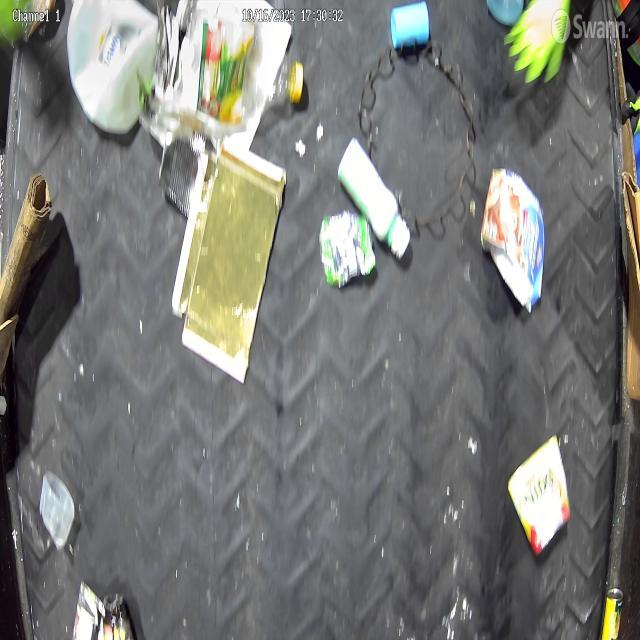can: (509, 438, 581, 554), (318, 206, 379, 291), (157, 132, 215, 219)
milk_jug: (63, 0, 163, 145)
plastic_bottle: (182, 16, 312, 134)
